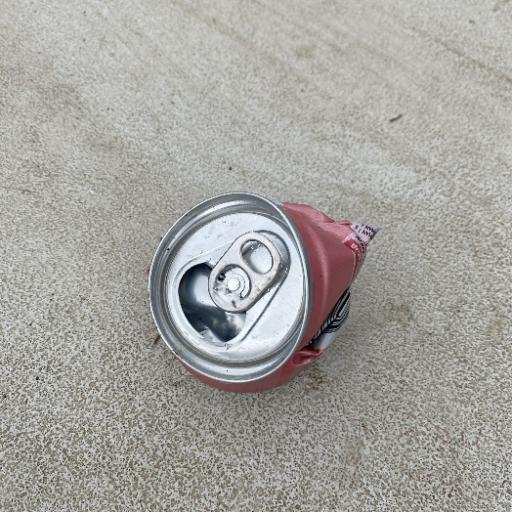Metal: (145, 188, 380, 394)
